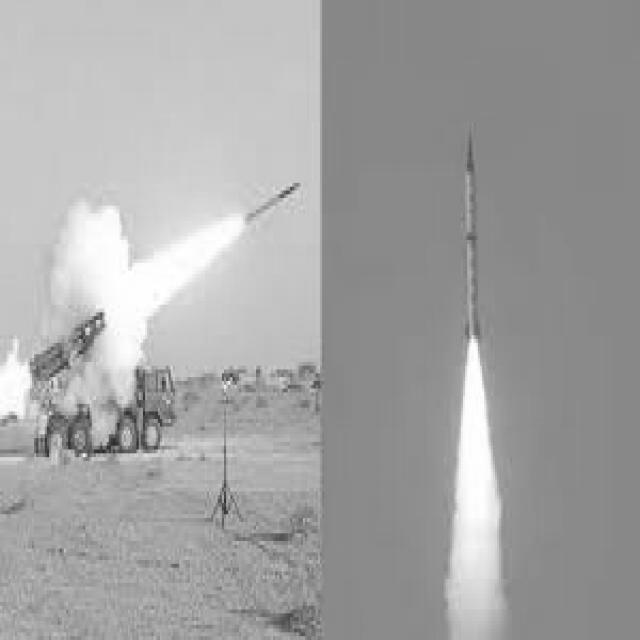missile: (463, 114, 483, 341), (242, 176, 303, 225)
